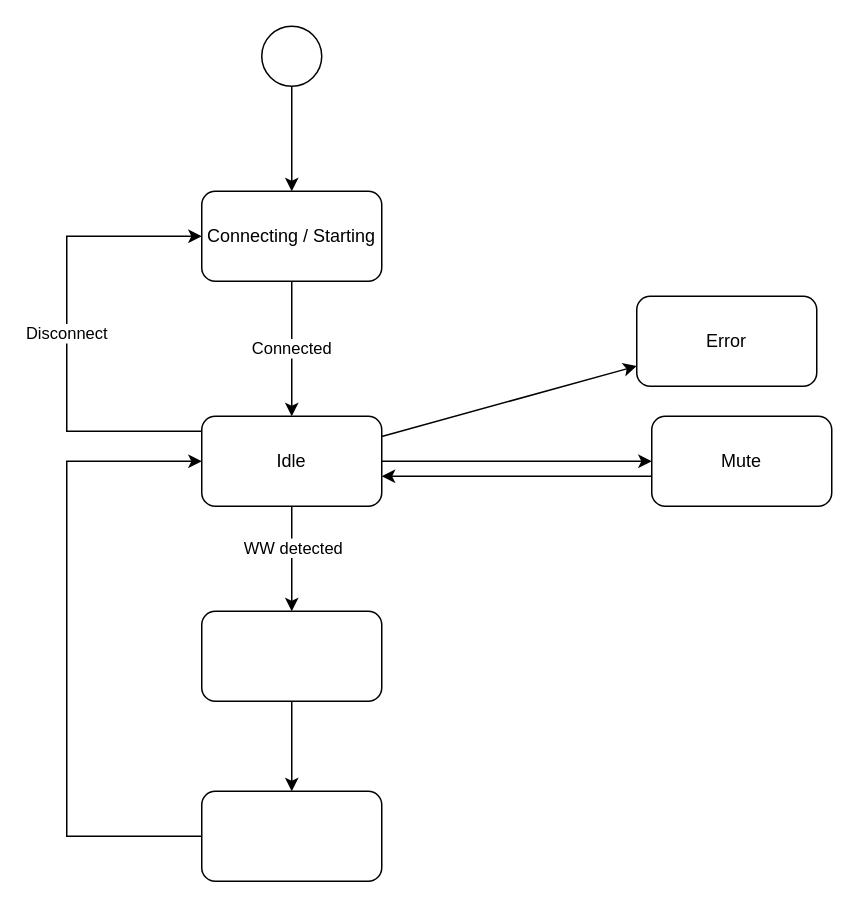
Some shapes in this 858 by 908 pixel diagram are drawn without their labels. Each missing label, with the box of its shape:
Listening: (200, 610, 382, 701)
Replying: (200, 790, 382, 881)
